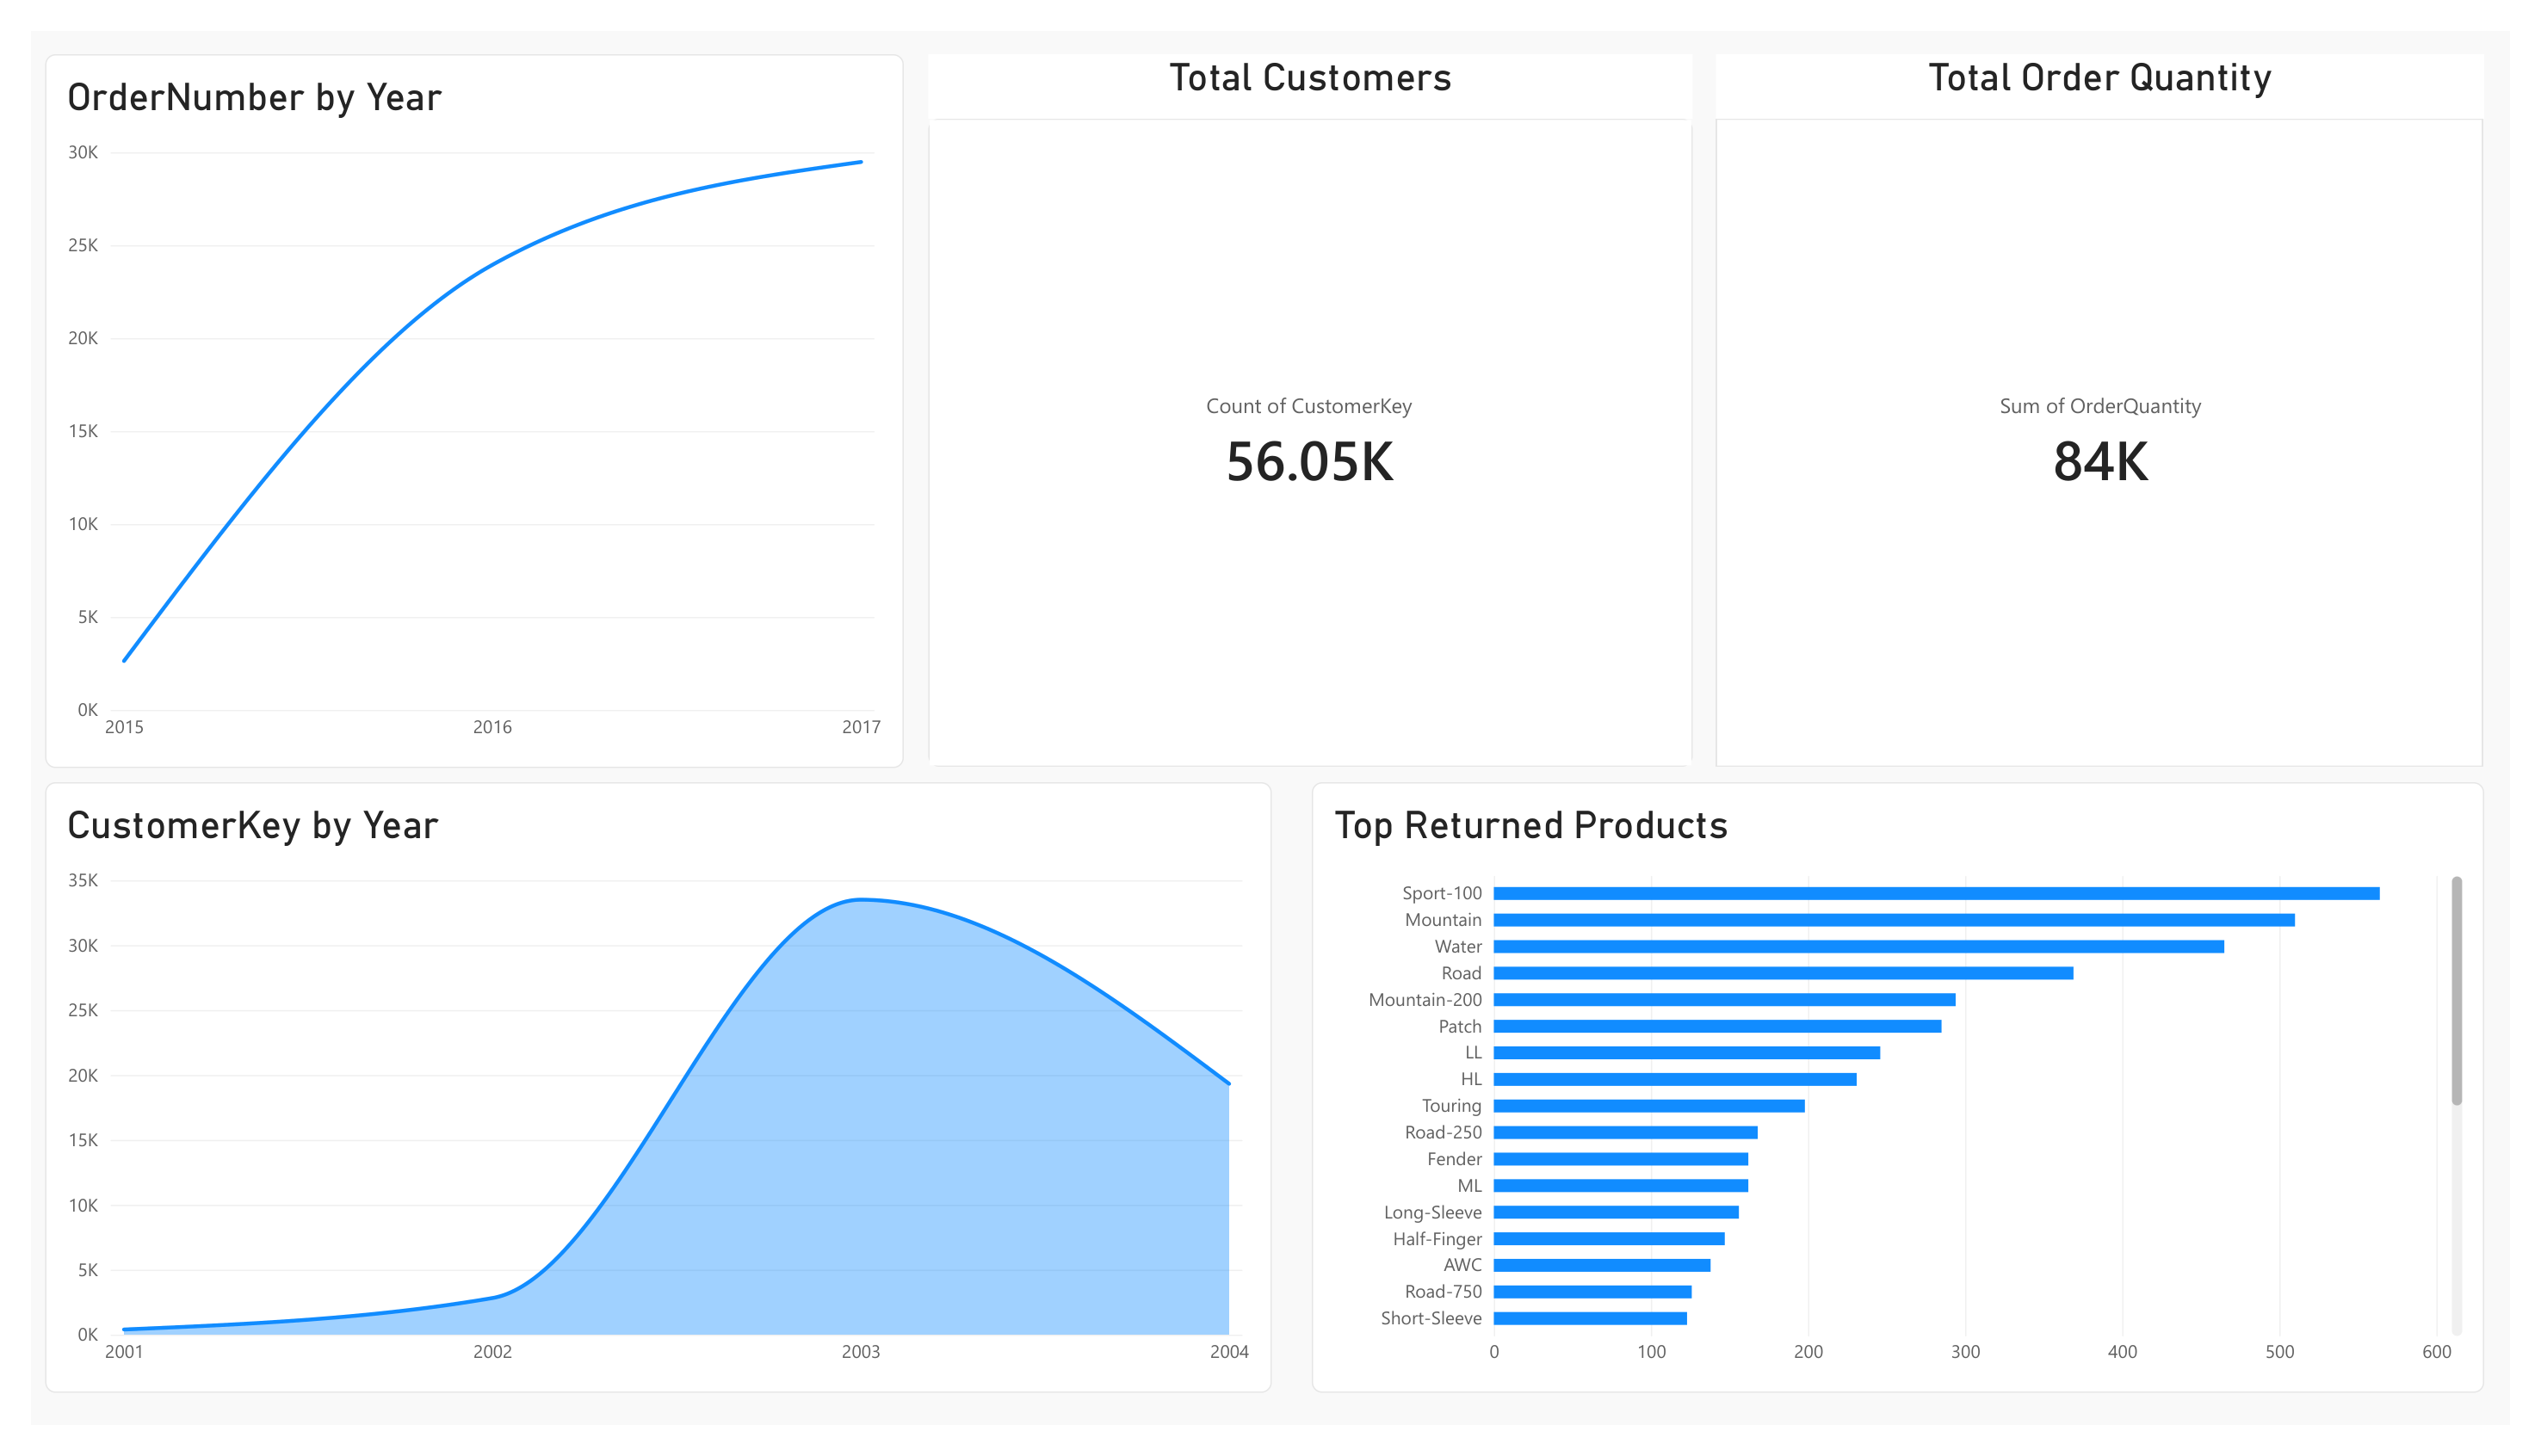

The page's visual inventory and layout, read from the dashboard file:
{"tool":"powerbi","page":{"name":"Page 1","canvas":[1920,1080],"ordinal":0},"visuals":[{"type":"lineChart","title":"OrderNumber by Year","fields":{"Category":["gold extsales.OrderDate.Variation.Date Hierarchy.Year","gold extsales.OrderDate.Variation.Date Hierarchy.Quarter","gold extsales.OrderDate.Variation.Date Hierarchy.Month","gold extsales.OrderDate.Variation.Date Hierarchy.Day"],"Y":["CountNonNull(gold extsales.OrderNumber)"]},"box":[10.5,18.4,665.8,552.6],"z":0},{"type":"cardVisual","title":"Total Customers","fields":{"Data":["CountNonNull(gold extsales.CustomerKey)"]},"box":[694.7,18.4,592.1,552.6],"z":2},{"type":"areaChart","title":"CustomerKey by Year","fields":{"Category":["gold extsales.StockDate.Variation.Date Hierarchy.Year","gold extsales.StockDate.Variation.Date Hierarchy.Quarter","gold extsales.StockDate.Variation.Date Hierarchy.Month","gold extsales.StockDate.Variation.Date Hierarchy.Day"],"Y":["CountNonNull(gold extsales.CustomerKey)"]},"box":[10.5,581.6,950,473.7],"z":3},{"type":"cardVisual","title":"Total Order Quantity","fields":{"Data":["Sum(gold extsales.OrderQuantity)"]},"box":[1305.3,18.4,594.7,552.6],"z":4},{"type":"clusteredBarChart","title":"Top Returned Products","fields":{"Category":["ProductsDim.ProductName"],"Y":["Sum(gold returns.ReturnQuantity)"]},"box":[992.1,581.6,907.9,473.7],"z":5}]}

Visuals, with their boxes in screenshot pixels (x1, y1, x2, y2), scaled from the page's 1920x1080 canvas onto the 2541x1456 screenshot:
"OrderNumber by Year" lineChart: box(14, 25, 895, 770)
"Total Customers" cardVisual: box(919, 25, 1703, 770)
"CustomerKey by Year" areaChart: box(14, 784, 1271, 1422)
"Total Order Quantity" cardVisual: box(1728, 25, 2514, 770)
"Top Returned Products" clusteredBarChart: box(1313, 784, 2514, 1422)
